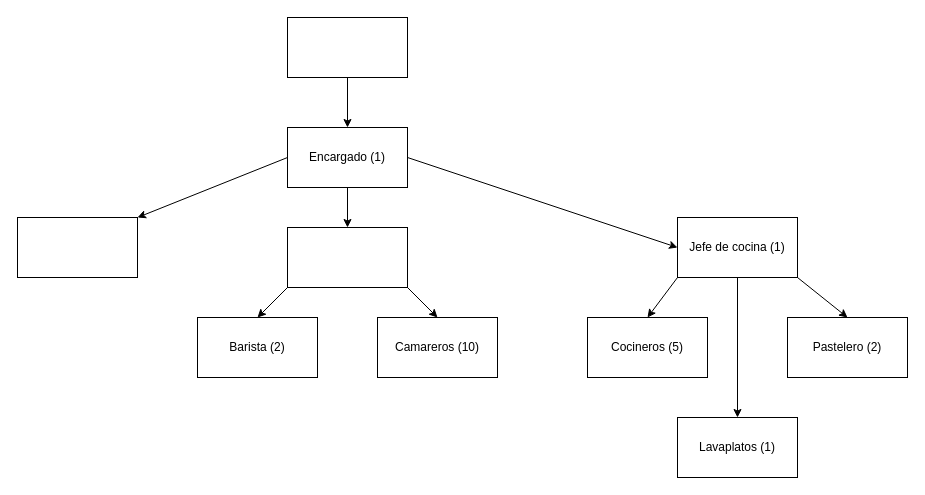
The diagram is 925 pixels wide and 495 high, and some of its shapes have lost their labels. Here are the shapes that lost their labels. From the top down, the centre of each, then its label:
the point at 347,47: Dueño (1)
the point at 77,247: Recepcionista (1)
the point at 347,257: Metre (2)
